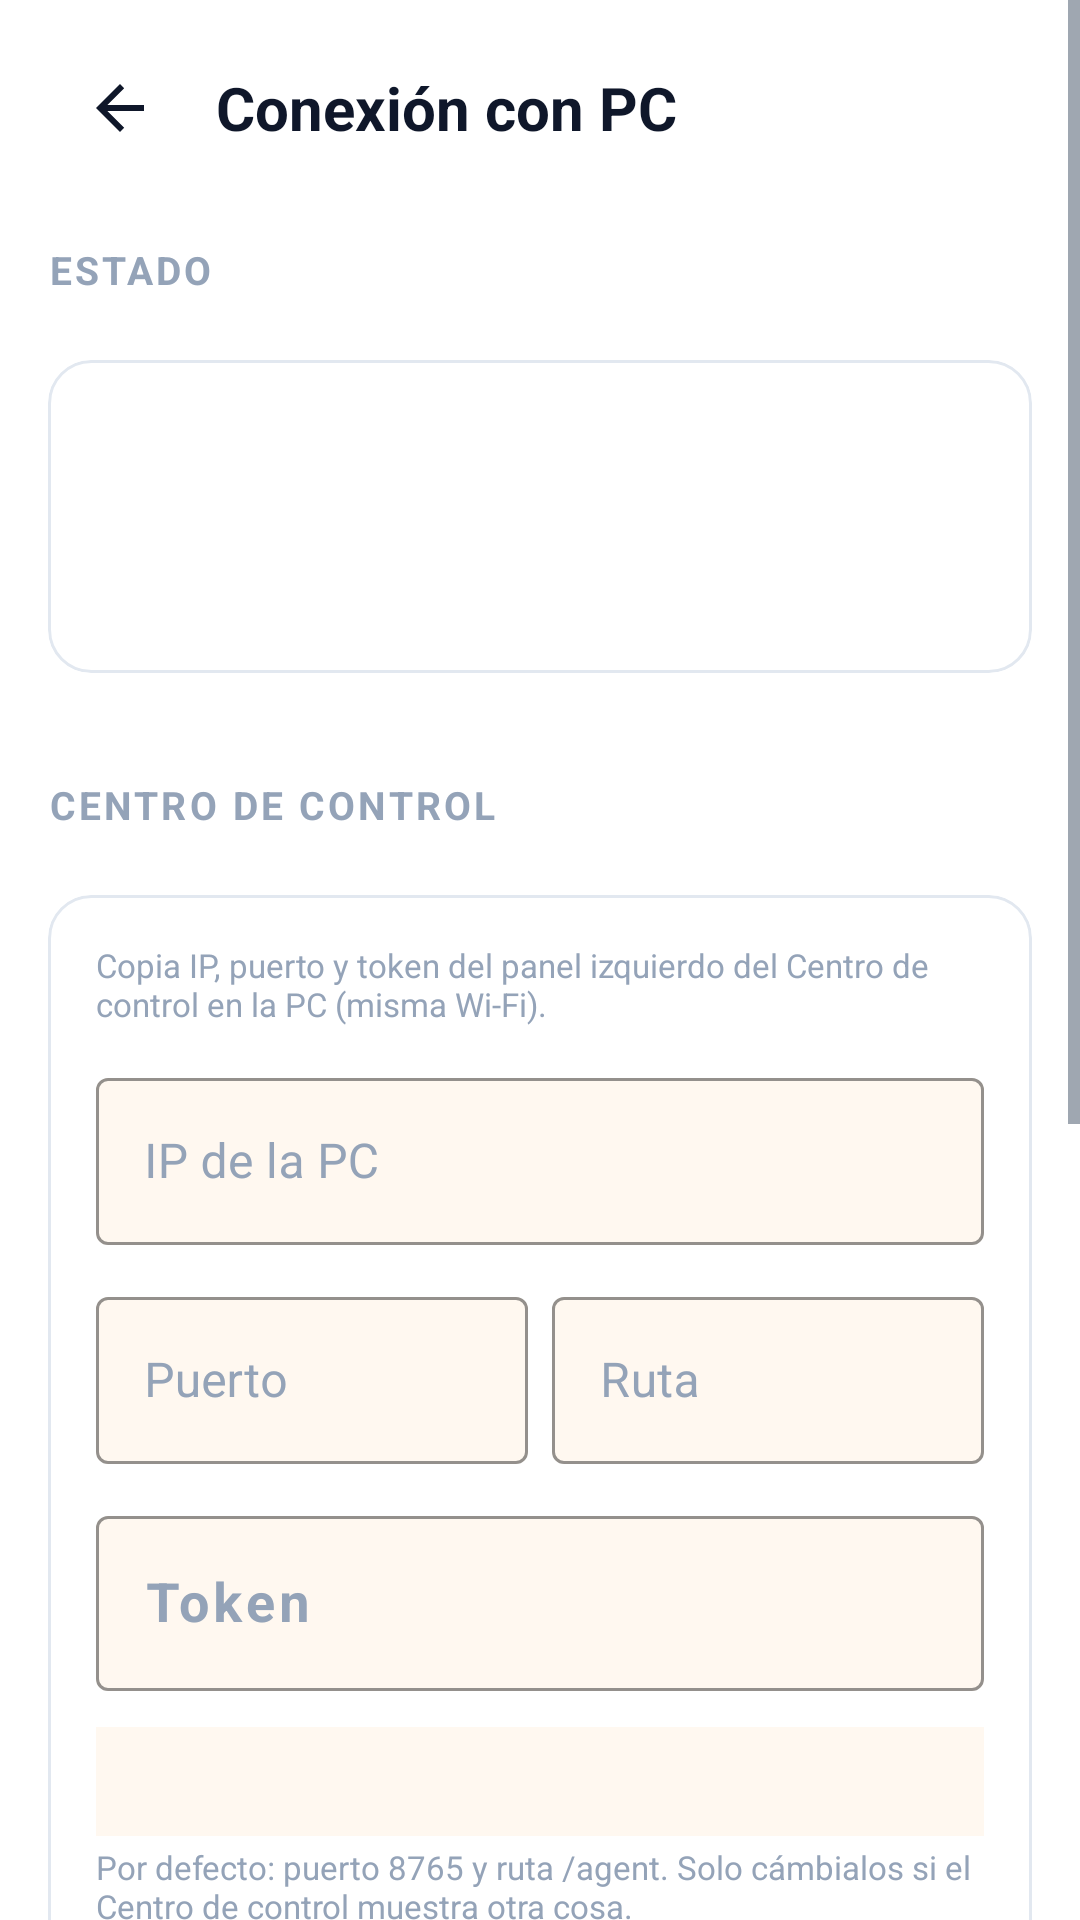

Icon click points for this 1080px x 1920px phone screenshot, format (x=x, y=y):
Volver: (x=120, y=108)
